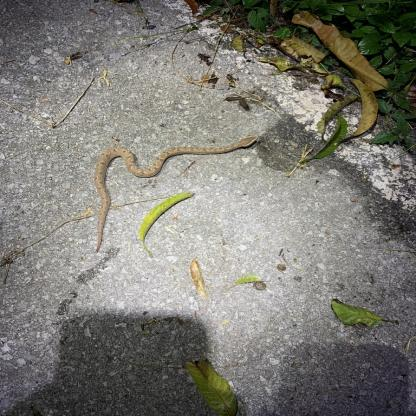Snake: (93, 130, 260, 252)
